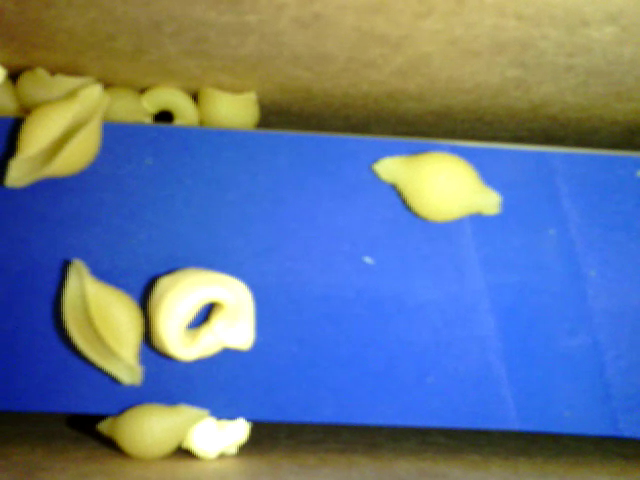elbow: (145, 268, 253, 364), (139, 82, 203, 127)
shell: (59, 257, 145, 385), (5, 82, 108, 186), (371, 151, 506, 224), (94, 403, 208, 459), (12, 68, 104, 111), (197, 82, 265, 127), (95, 88, 155, 125)
